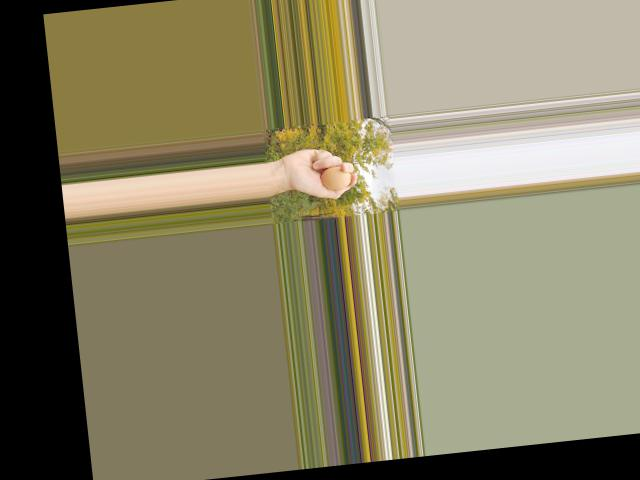egg: (320, 163, 352, 190)
